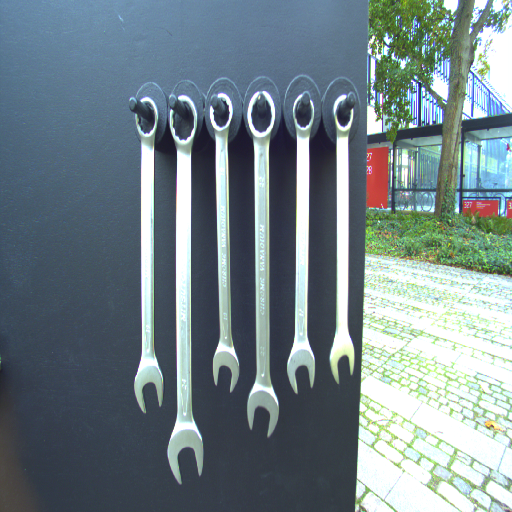bottom: (165, 422, 207, 489), (133, 356, 166, 416), (246, 383, 280, 440), (208, 343, 243, 397), (284, 344, 316, 395), (328, 332, 355, 384)
top: (166, 95, 201, 148), (246, 89, 277, 143), (130, 96, 161, 138), (206, 92, 235, 136), (329, 94, 358, 134), (292, 91, 315, 137)
